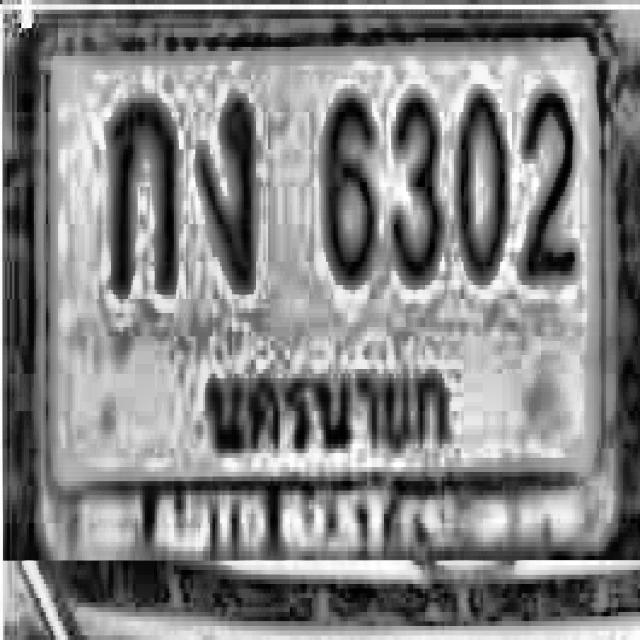license-plate: (36, 16, 618, 564)
